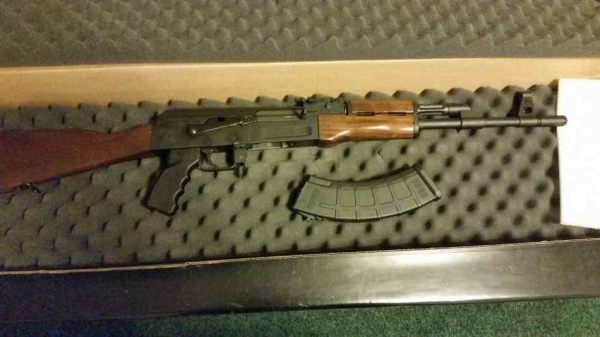ak47: (3, 99, 566, 216)
